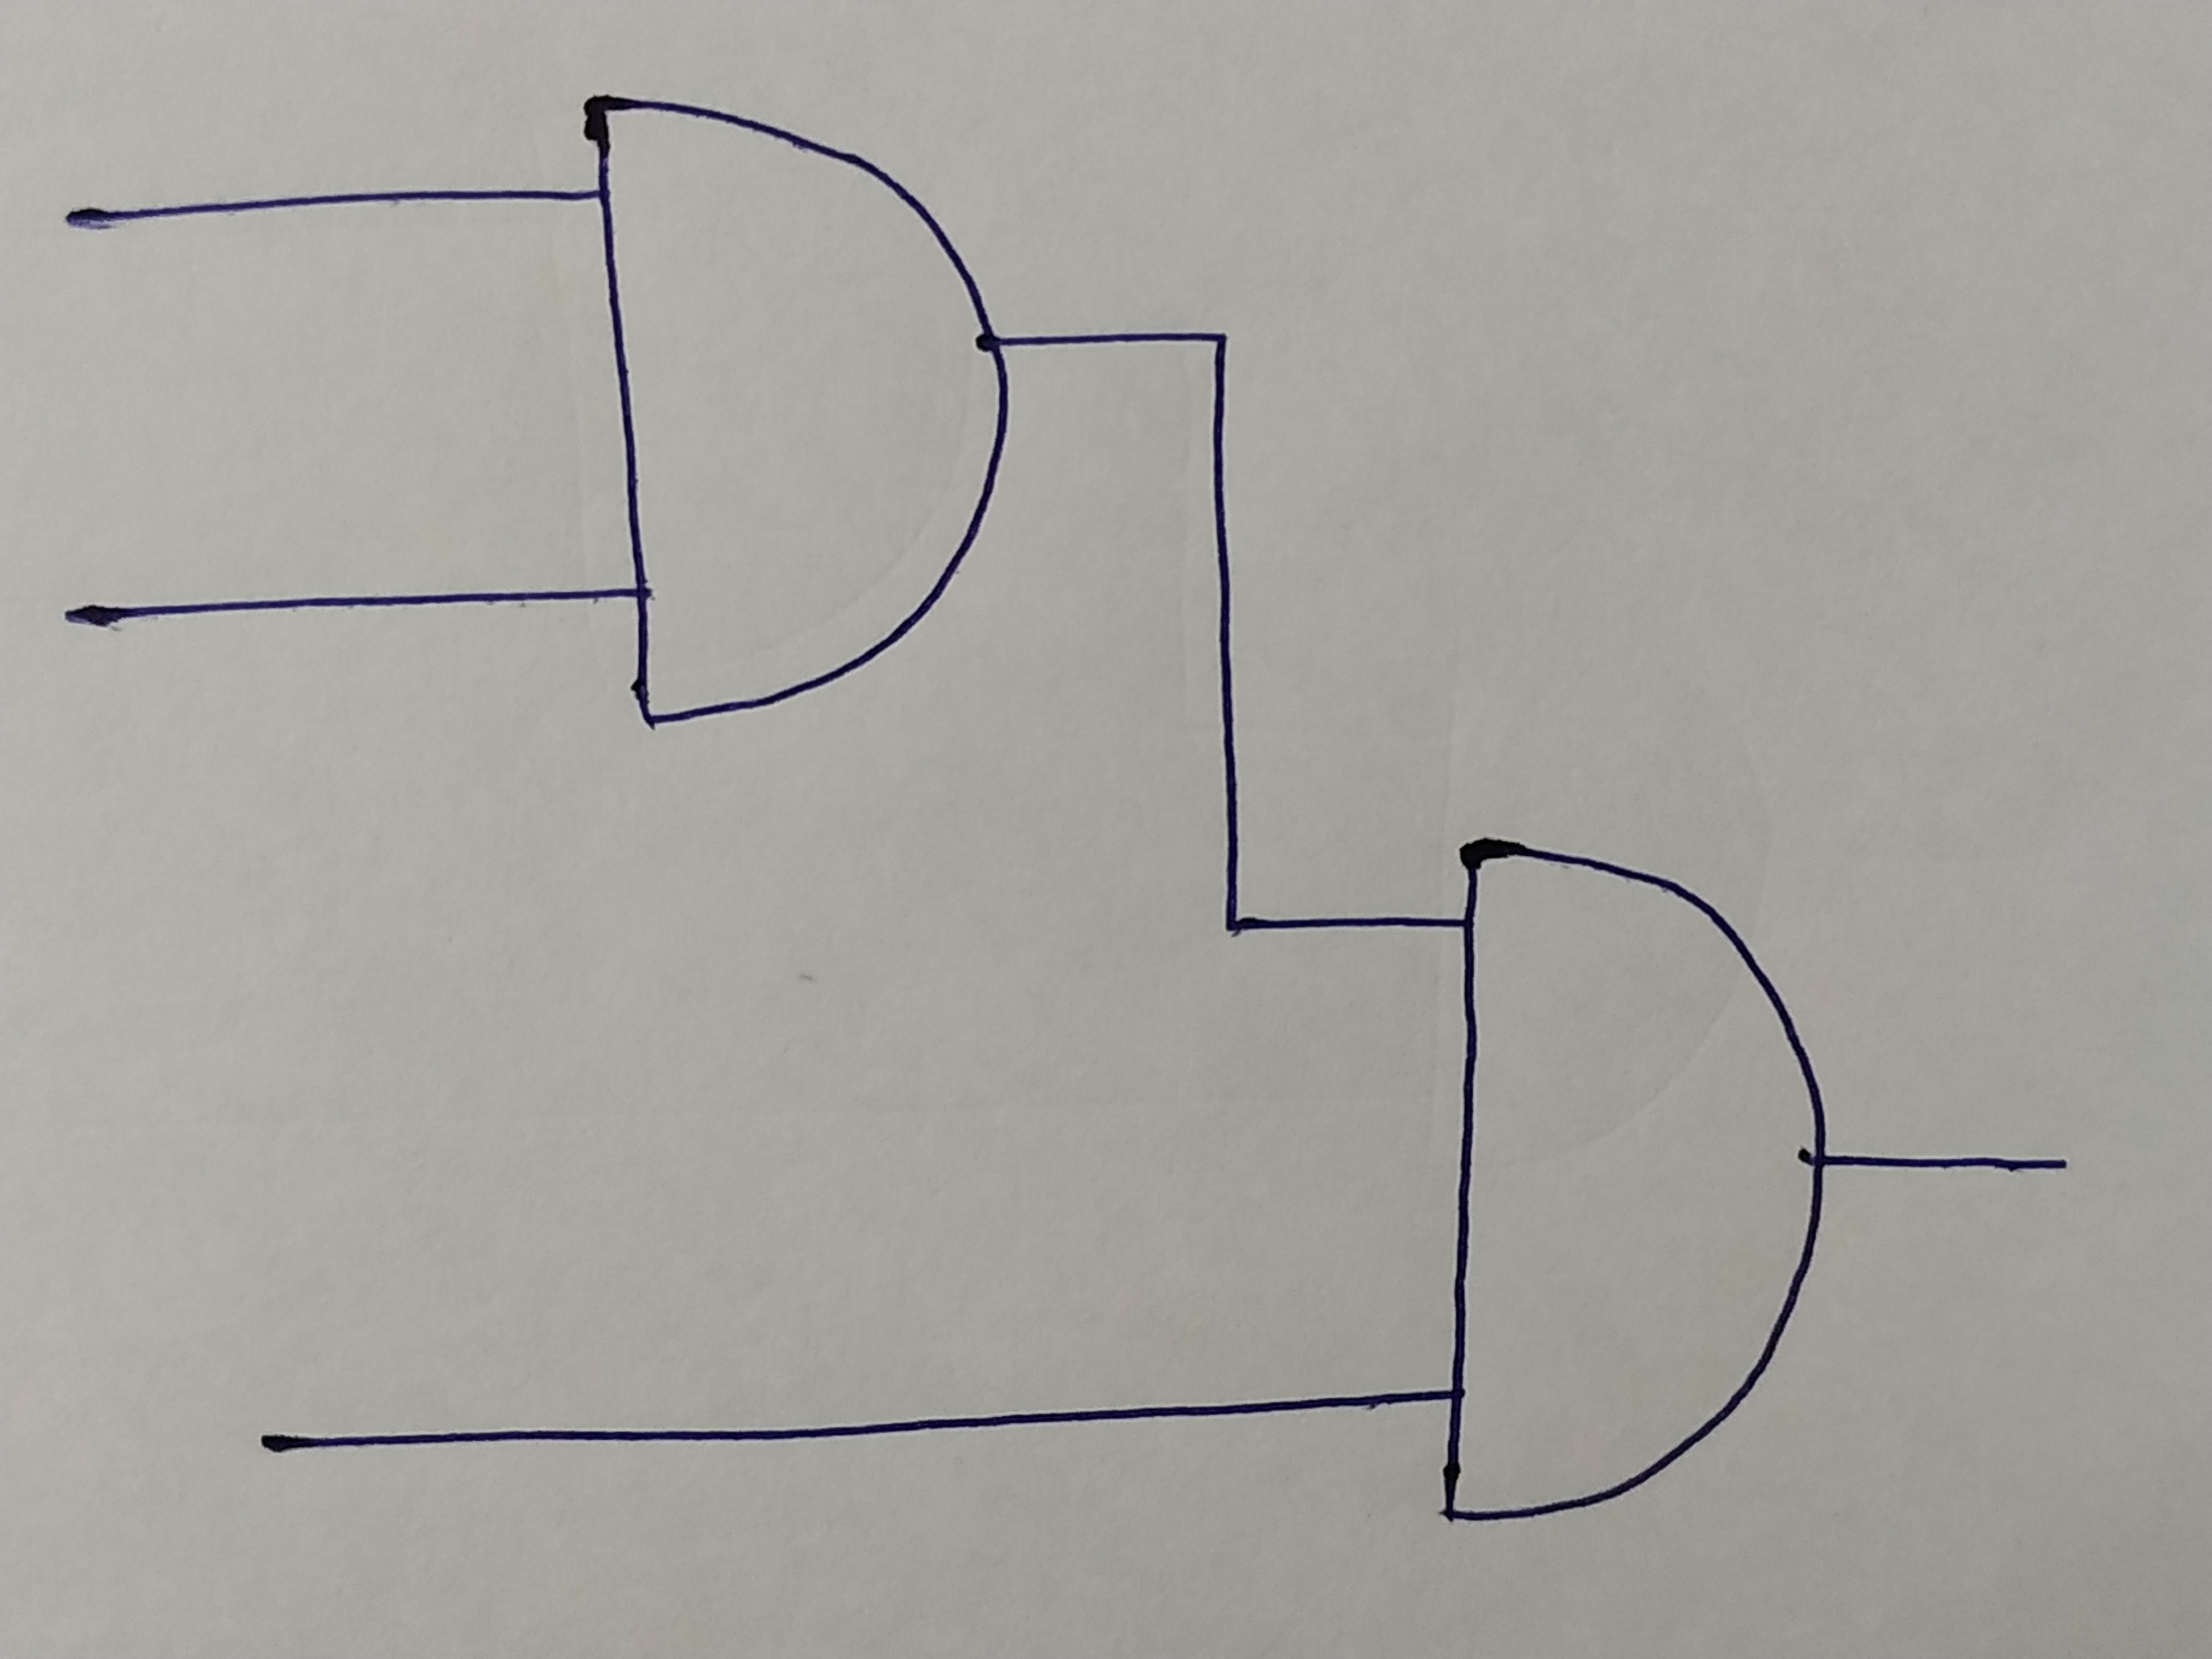and: (585, 96, 1007, 728), (1447, 842, 1829, 1530)
